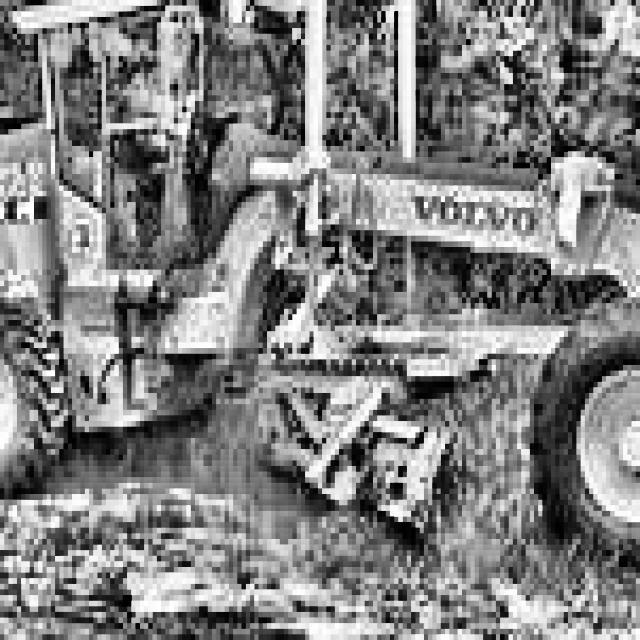buldozerpayloadergrader: (0, 0, 640, 601)
